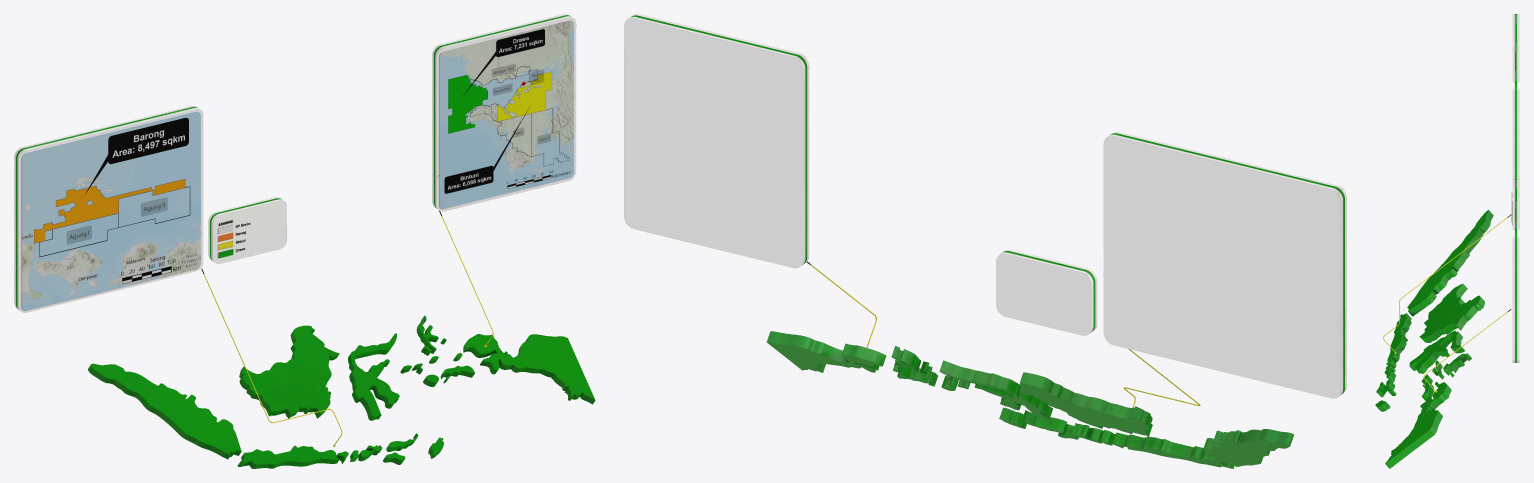
Rendered from indonesian-map.glb.
3 renders of one model, left to right at view 1: azimuth 30°, elevation 25°; view 2: azimuth 150°, elevation 25°; view 3: azimuth 270°, elevation 25°, orthographic. The views are drawn at different scales.
Visible parts, largest first — view 1: INDONESIA MAP.002; view 2: INDONESIA MAP.002; view 3: INDONESIA MAP.002.
Part boxes in pixels (x1,y1,x2,y2): INDONESIA MAP.002: [14, 14, 595, 468]; INDONESIA MAP.002: [624, 14, 1346, 468]; INDONESIA MAP.002: [1375, 14, 1519, 468].
Bounding box in the file's own units: 25.75 × 14.51 × 7.1.
Materials: 7 (7 with a texture image).
